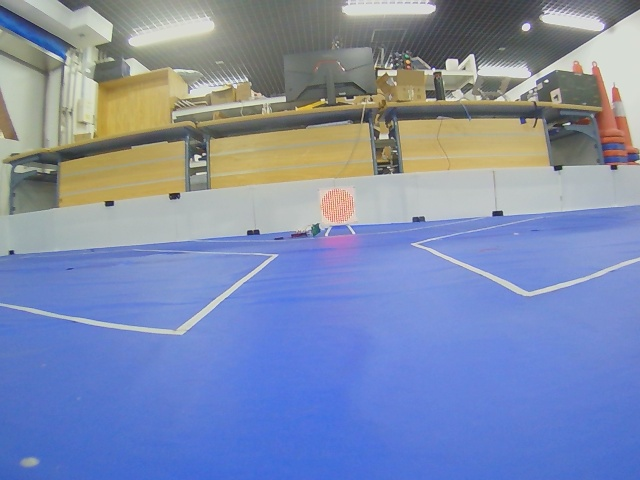red: (320, 187, 357, 226)
